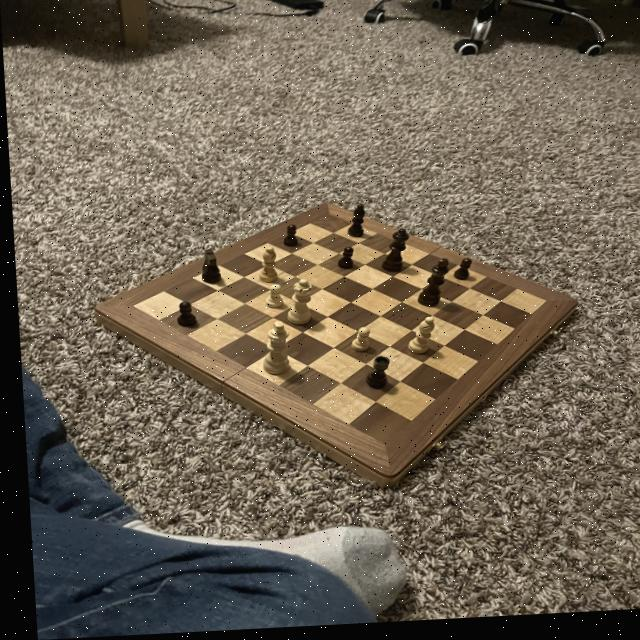bishop: (340, 205, 367, 242)
black-bishop: (409, 260, 450, 312)
black-king: (193, 249, 222, 290)
black-knight: (171, 300, 194, 333), (449, 260, 472, 288), (279, 223, 300, 253), (333, 249, 353, 274)
black-pawn: (375, 233, 408, 278)
black-queen: (358, 359, 389, 394)
black-rook: (399, 319, 432, 362), (256, 247, 277, 287)
white-bishop: (255, 320, 289, 380)
white-knight: (343, 328, 371, 356), (260, 284, 285, 313)
white-pawn: (277, 281, 315, 330)
